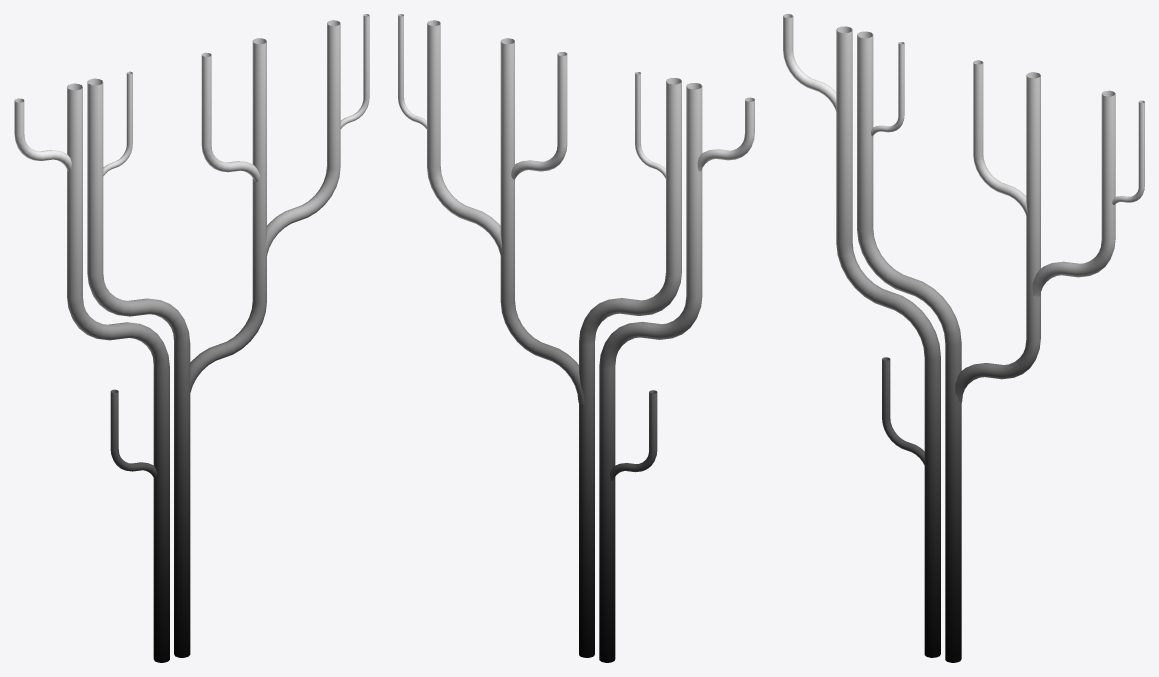
File: BG_Tree_V2.fbx
3 views of the same model, side by side, from view 1: azimuth 30°, elevation 25°; view 2: azimuth 150°, elevation 25°; view 3: azimuth 330°, elevation 25° (orthographic).
Visible parts, largest first — view 1: BG_Tree_V2; view 2: BG_Tree_V2; view 3: BG_Tree_V2.
Part boxes in pixels (x1,y1,x2,y2): BG_Tree_V2: [14, 14, 369, 662]; BG_Tree_V2: [398, 14, 754, 662]; BG_Tree_V2: [783, 14, 1144, 662].
Bounding box in the file's own units: 652 × 1044 × 25.28.
